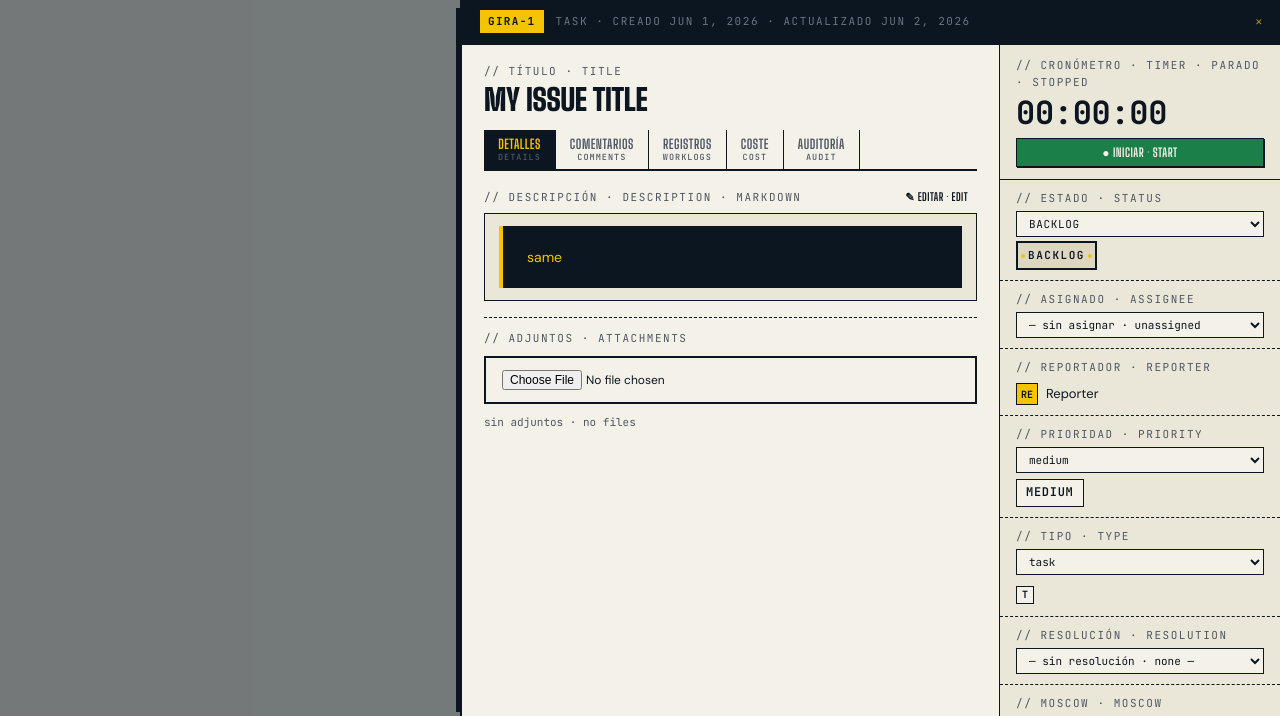
Test: IssueDrawer — coverage gaps › closes the description editor without saving when the draft is unchanged
Expected: the text "same" is shown, [499, 226, 962, 288]
Step 1. Click the button "✎ Editar · Edit" → (937, 197), box [896, 187, 977, 207]
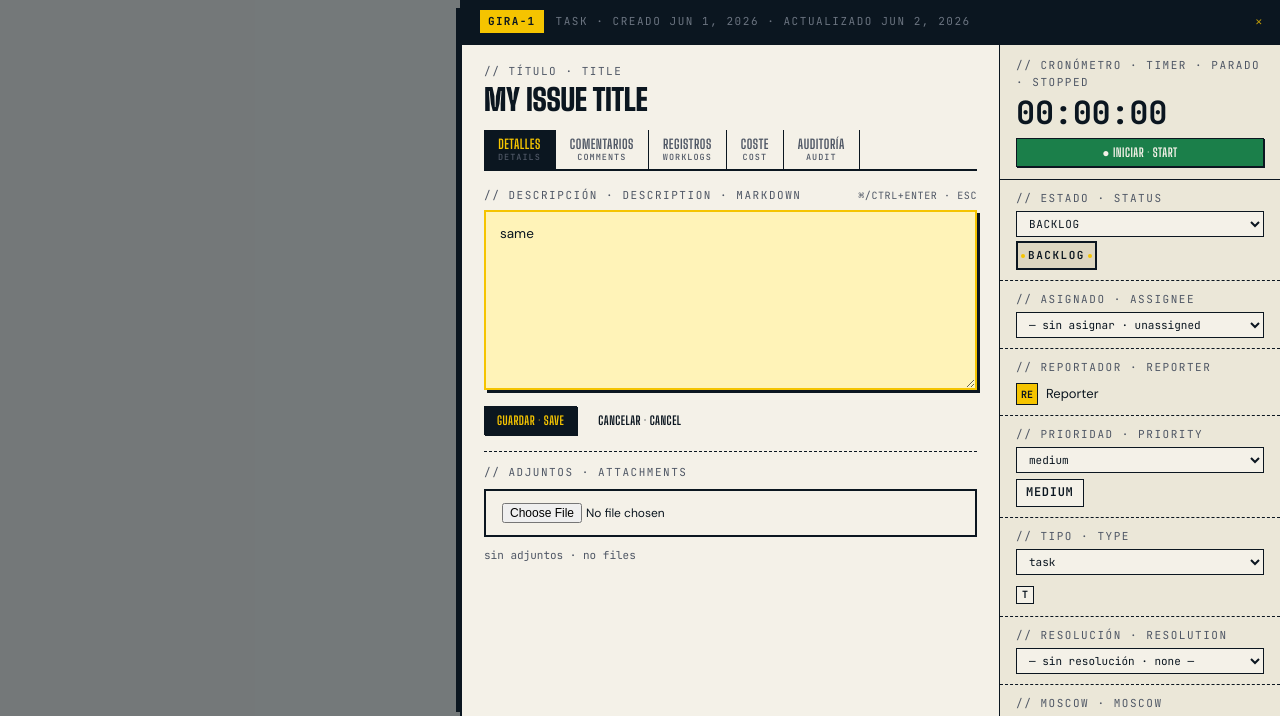
Step 2. Click the button "Guardar · Save" → (531, 420), box [484, 406, 577, 435]
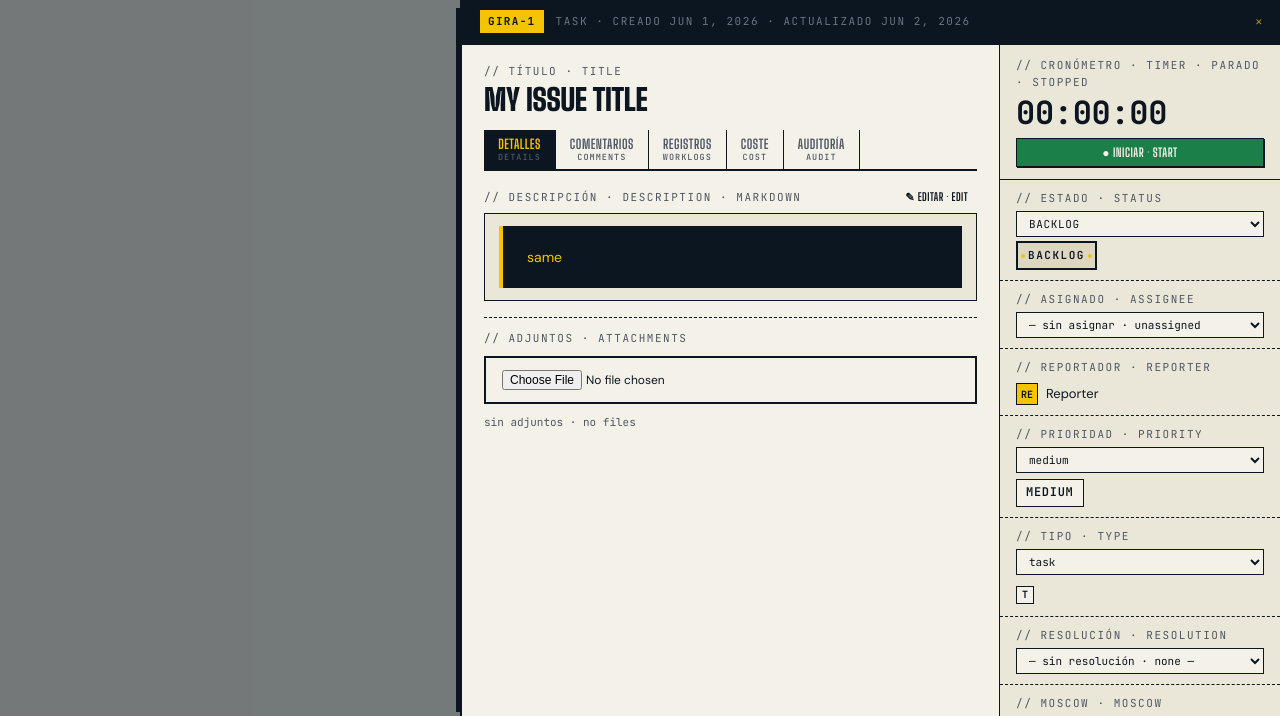
Expected: the button "✎ Editar · Edit" is shown, [896, 187, 977, 207]
